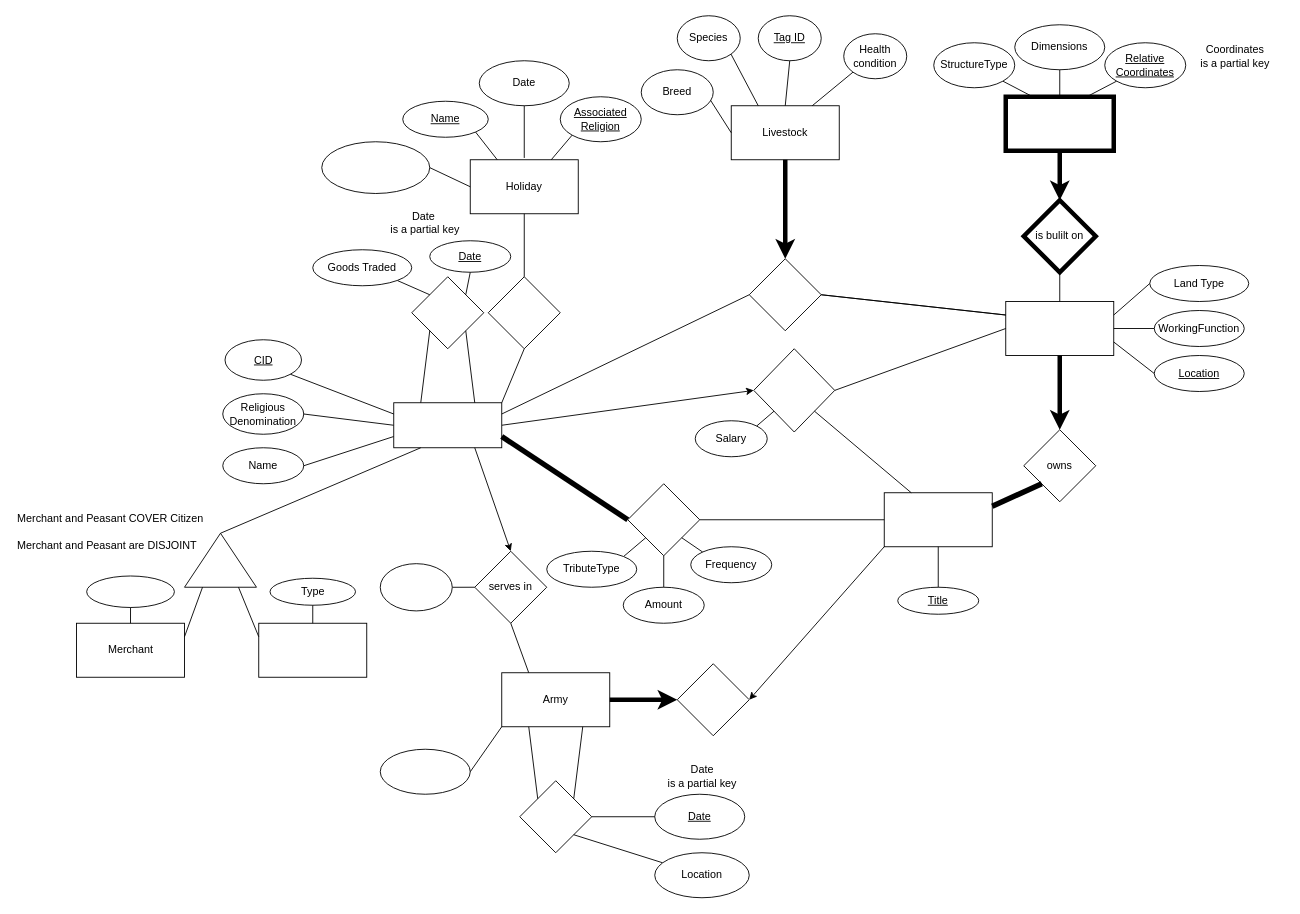
The diagram is 1300 pixels wide and 914 high, and some of its shapes have lost their labels. The shapes that lost their labels are listed below. From the top down, each one's box as (x1, y1, x2, y2) in pixels, then its label:
(1003, 94, 1116, 153): Structure
(321, 141, 430, 194): hasReligiousLeader
(411, 276, 484, 349): trades
(487, 276, 560, 349): celebrates
(748, 258, 821, 331): lives on
(1005, 301, 1114, 356): PlotOfLand
(753, 348, 835, 432): works on / employed by
(393, 402, 502, 448): Citizen
(627, 483, 700, 556): pays tribute
(883, 492, 992, 547): Authority
(184, 532, 256, 587): ISA
(86, 575, 174, 608): Hometown
(379, 563, 452, 611): Rank
(258, 622, 367, 677): Peasant
(676, 663, 749, 736): levies
(379, 748, 470, 794): Unit
(519, 780, 592, 853): battles
